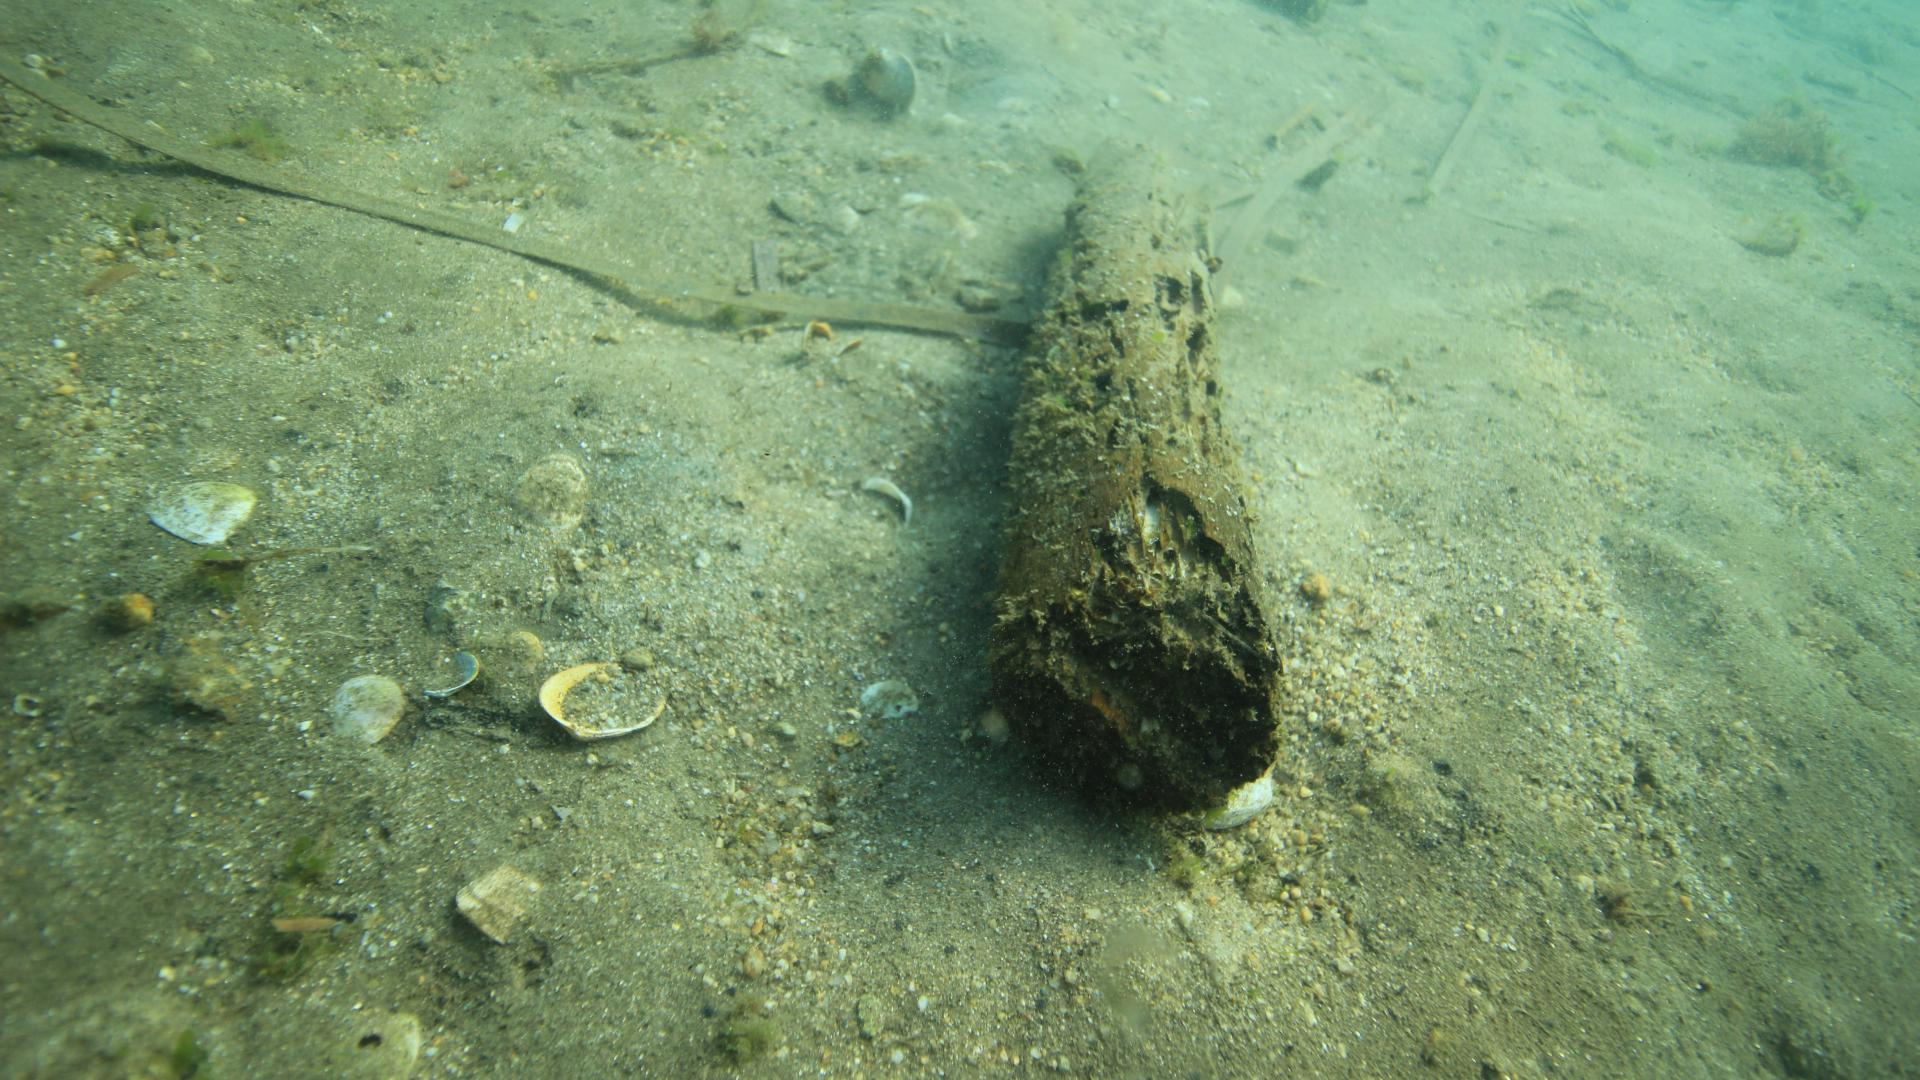wood: (1010, 135, 1278, 816)
